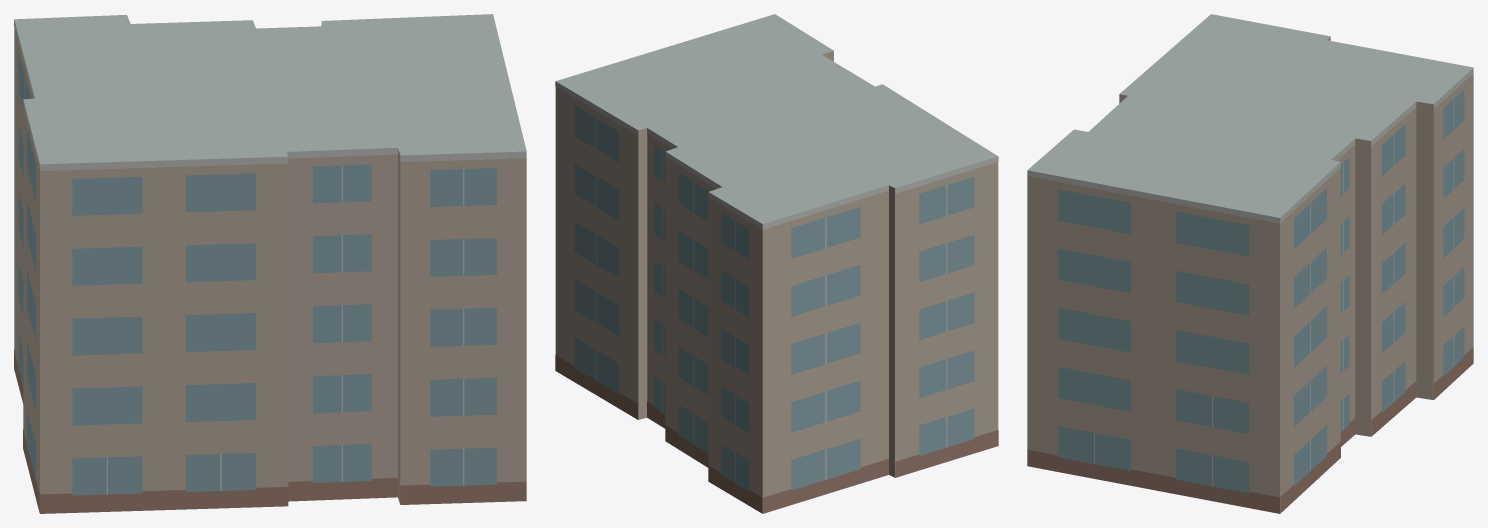
Rendered from survey-upis-32589638.glb.
3 renders of one model, left to right at view 1: azimuth 30°, elevation 25°; view 2: azimuth 150°, elevation 25°; view 3: azimuth 270°, elevation 25°, orthographic. The views are drawn at different scales.
Visible parts, largest first — view 1: survey-upis-32589638.tmp; view 2: survey-upis-32589638.tmp; view 3: survey-upis-32589638.tmp.
Part boxes in pixels (<box>): survey-upis-32589638.tmp: <box>14,14,526,513</box>; survey-upis-32589638.tmp: <box>555,14,998,513</box>; survey-upis-32589638.tmp: <box>1027,14,1473,513</box>.
Bounding box in the file's own units: 18.79 × 12.7 × 17.37.
